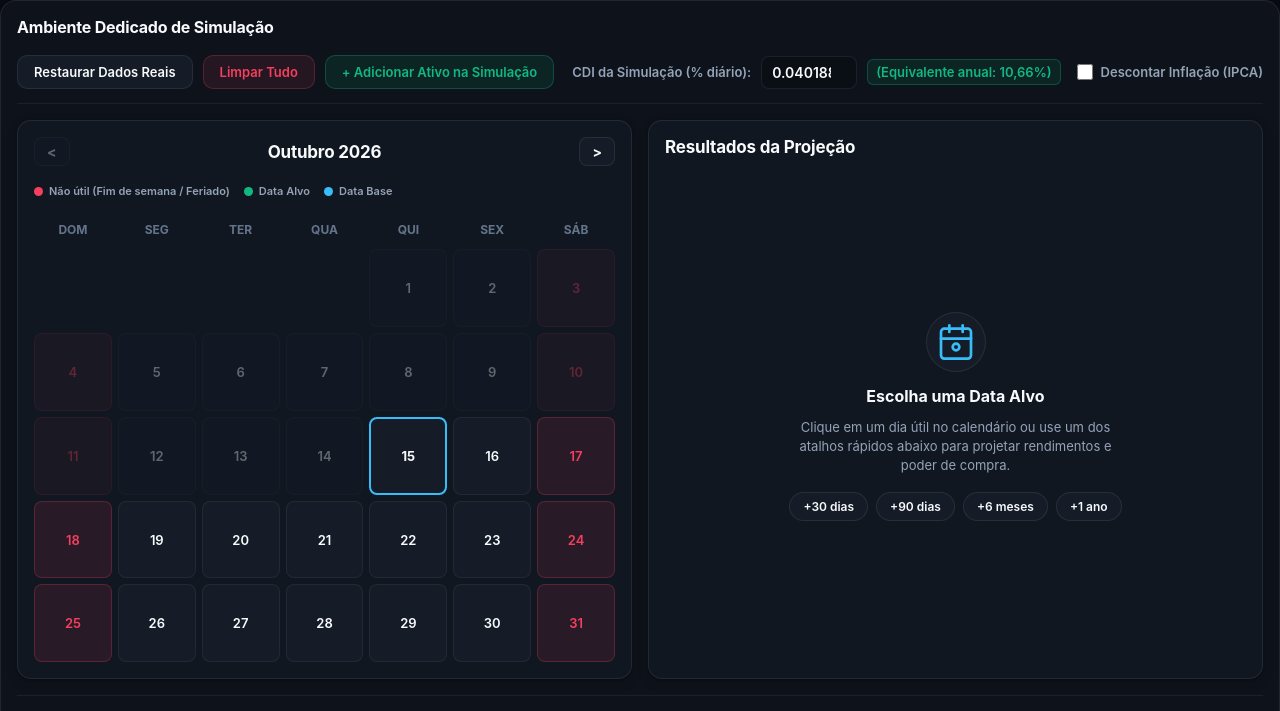
SimulationArea Component › toggles add asset form and adds new simulated asset
Click the button "+ Adicionar Ativo na Simulação". click: (440, 72)
box: x1=325 y1=55 x2=554 y2=89
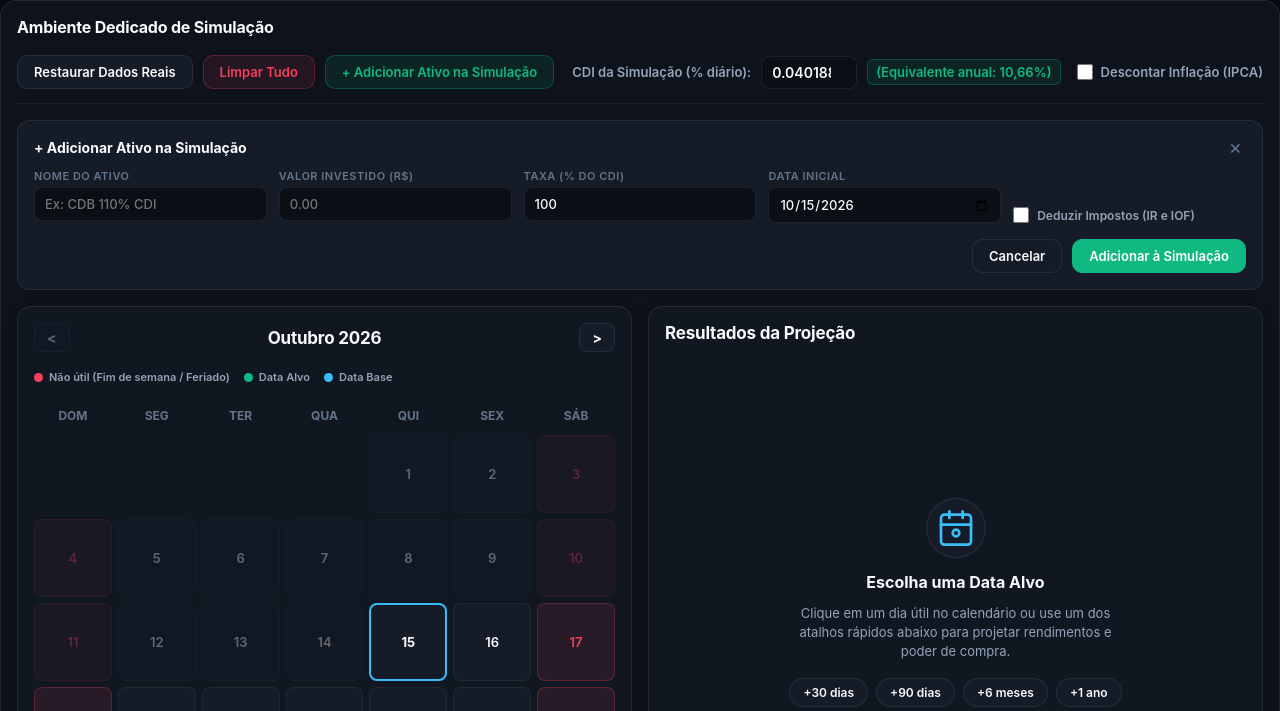
Now the text "Nome do Ativo" is shown, box x1=34 y1=169 x2=130 y2=183
Type "LCI 95%" into the field with placeholder "Ex: CDB 110% CDI". click: (150, 204)
box: x1=34 y1=187 x2=267 y2=221
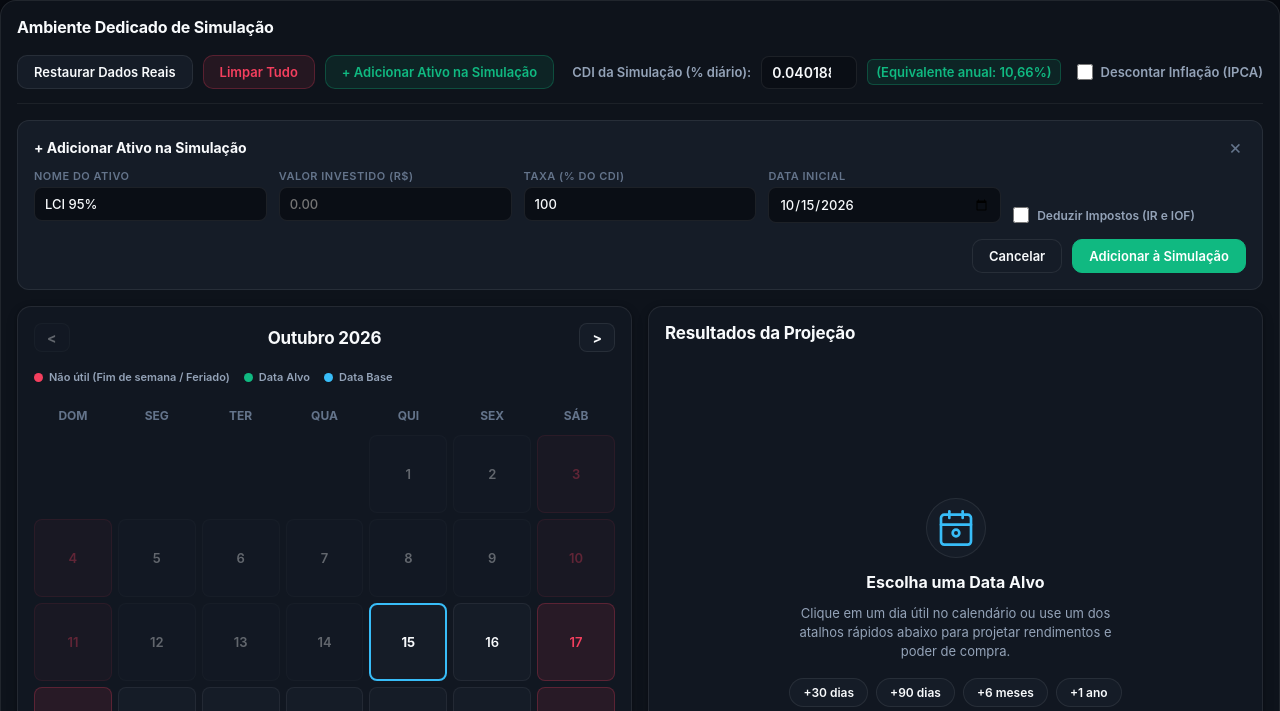
Type "15000" into the number field with placeholder "0.00". click: (395, 204)
box: x1=279 y1=187 x2=512 y2=221
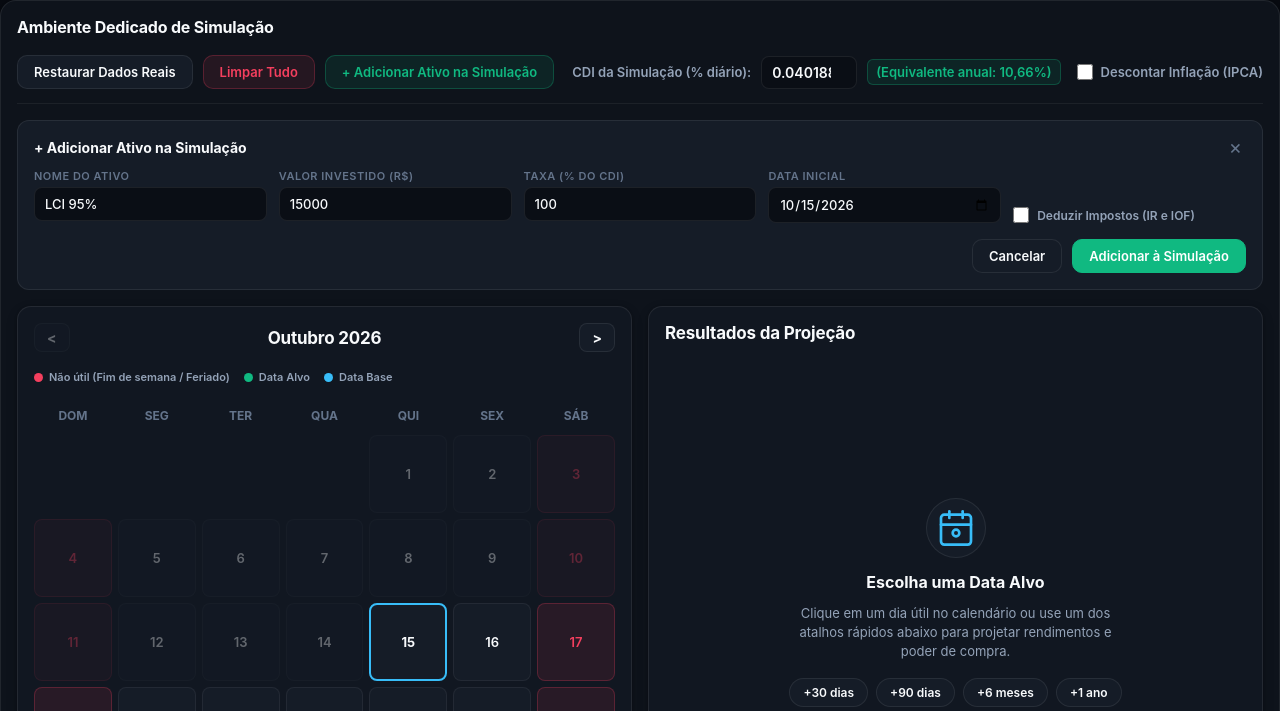
Click the button "Adicionar à Simulação". click: (1159, 256)
box: x1=1072 y1=239 x2=1246 y2=273
(page scrolled)
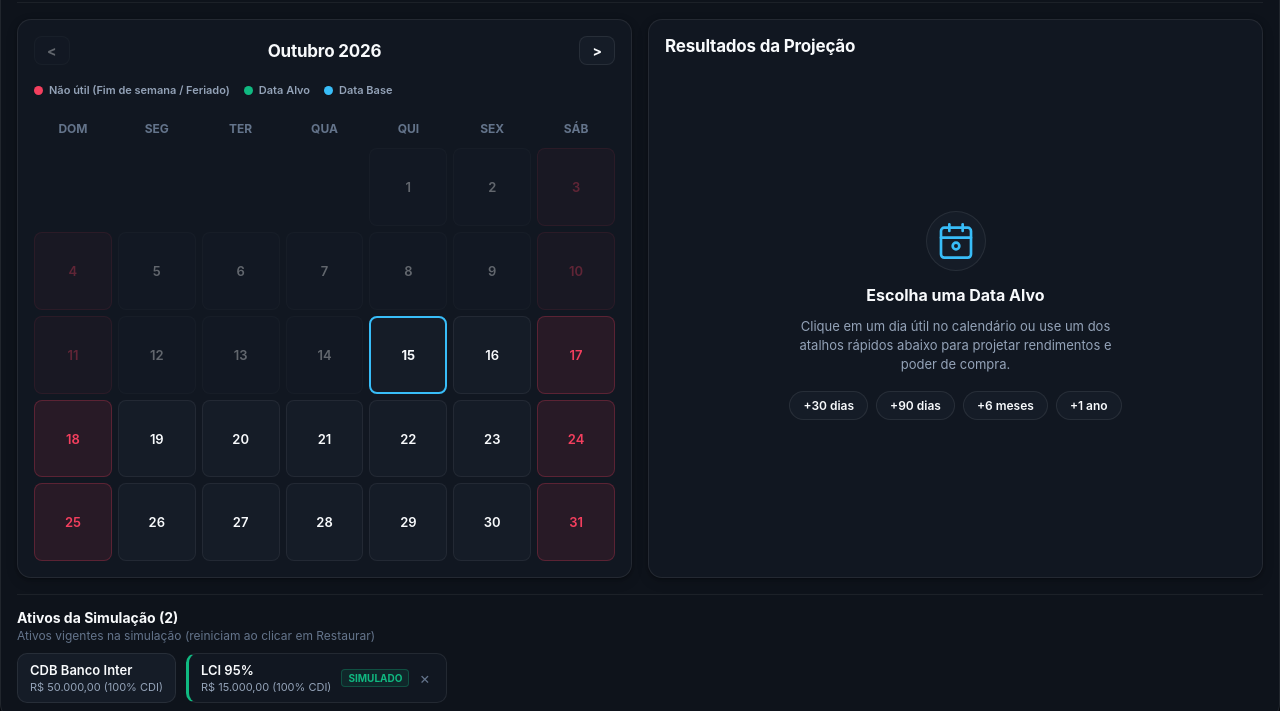
Now the text "LCI 95%" is shown, box x1=201 y1=662 x2=254 y2=678
Now the text "R$ 15.000,00 (100% CDI)" is shown, box x1=201 y1=680 x2=331 y2=694
